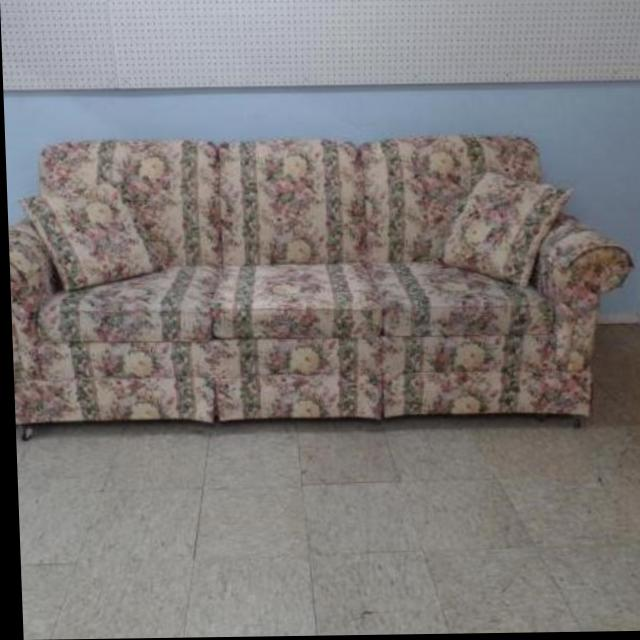Sofa: (4, 130, 635, 444)
